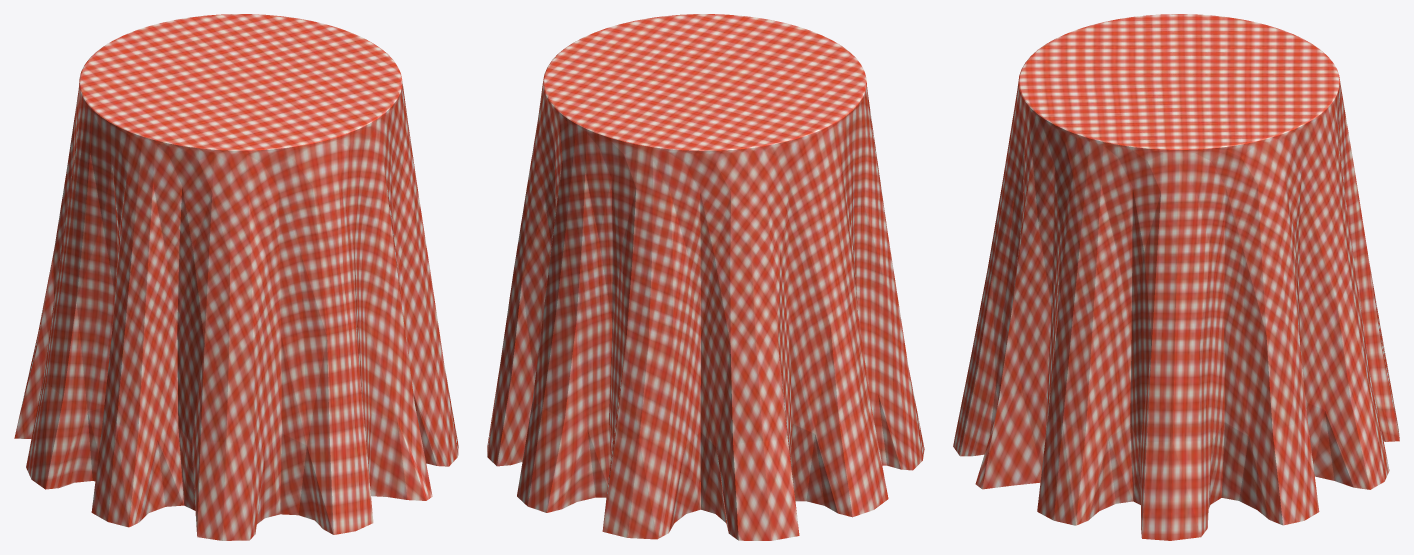
Rendered from sweethome3d-blendswap-cc-0-table-with-tablecloth-47.glb.
The picture shows the model from 3 angles, left to right: view 1: azimuth 30°, elevation 25°; view 2: azimuth 150°, elevation 25°; view 3: azimuth 270°, elevation 25°; orthographic projection.
Parts seen in each view (by area): view 1: 1_4; view 2: 1_4; view 3: 1_4.
Boxes of the visible parts, <box> form: 1_4: <box>14,14,458,540</box>; 1_4: <box>487,14,924,540</box>; 1_4: <box>953,14,1399,540</box>.
Size of the model in its own units: 129 by 121 by 131.
Materials: 2 (1 with a texture image).
